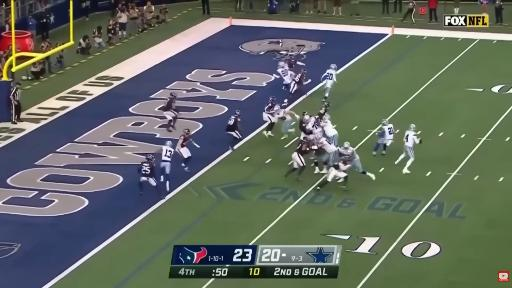Helmet: (145, 154, 154, 162), (343, 156, 351, 163), (278, 62, 287, 68), (330, 63, 337, 70), (323, 114, 330, 121), (307, 135, 314, 142), (170, 92, 177, 98), (303, 115, 310, 121), (273, 105, 279, 112), (344, 142, 350, 148), (166, 141, 172, 147), (324, 101, 330, 107), (382, 119, 388, 125), (315, 134, 320, 141), (270, 96, 275, 102), (410, 124, 415, 130), (184, 129, 190, 134), (235, 110, 240, 115), (303, 112, 308, 116), (302, 69, 306, 74), (290, 56, 294, 59)
Jersey: (318, 138, 337, 153), (321, 120, 337, 137), (278, 67, 293, 83), (404, 131, 419, 147), (322, 69, 336, 86), (342, 147, 358, 161), (226, 115, 240, 131), (140, 162, 154, 178), (307, 117, 321, 133), (299, 117, 311, 134), (296, 140, 309, 155), (162, 146, 174, 161), (382, 124, 394, 139), (163, 98, 175, 111), (264, 101, 275, 114), (294, 72, 305, 85), (275, 108, 286, 120), (180, 134, 190, 147), (318, 106, 328, 119), (287, 60, 297, 70)
Player: (395, 124, 421, 173), (342, 142, 375, 180), (317, 154, 350, 192), (285, 139, 311, 180), (314, 135, 342, 173), (177, 129, 199, 171), (276, 100, 299, 139), (373, 120, 394, 155), (139, 155, 158, 193), (160, 141, 174, 192), (226, 110, 242, 149), (263, 96, 278, 136), (321, 64, 337, 100), (163, 93, 178, 131), (290, 69, 310, 97), (321, 115, 338, 146), (278, 62, 294, 89), (299, 112, 312, 138), (307, 116, 322, 136), (318, 101, 329, 119)
